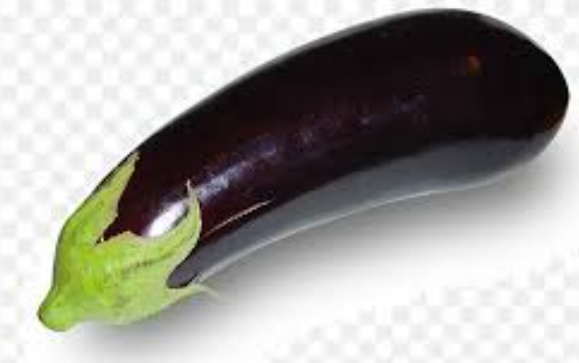catim: (19, 7, 568, 339)
